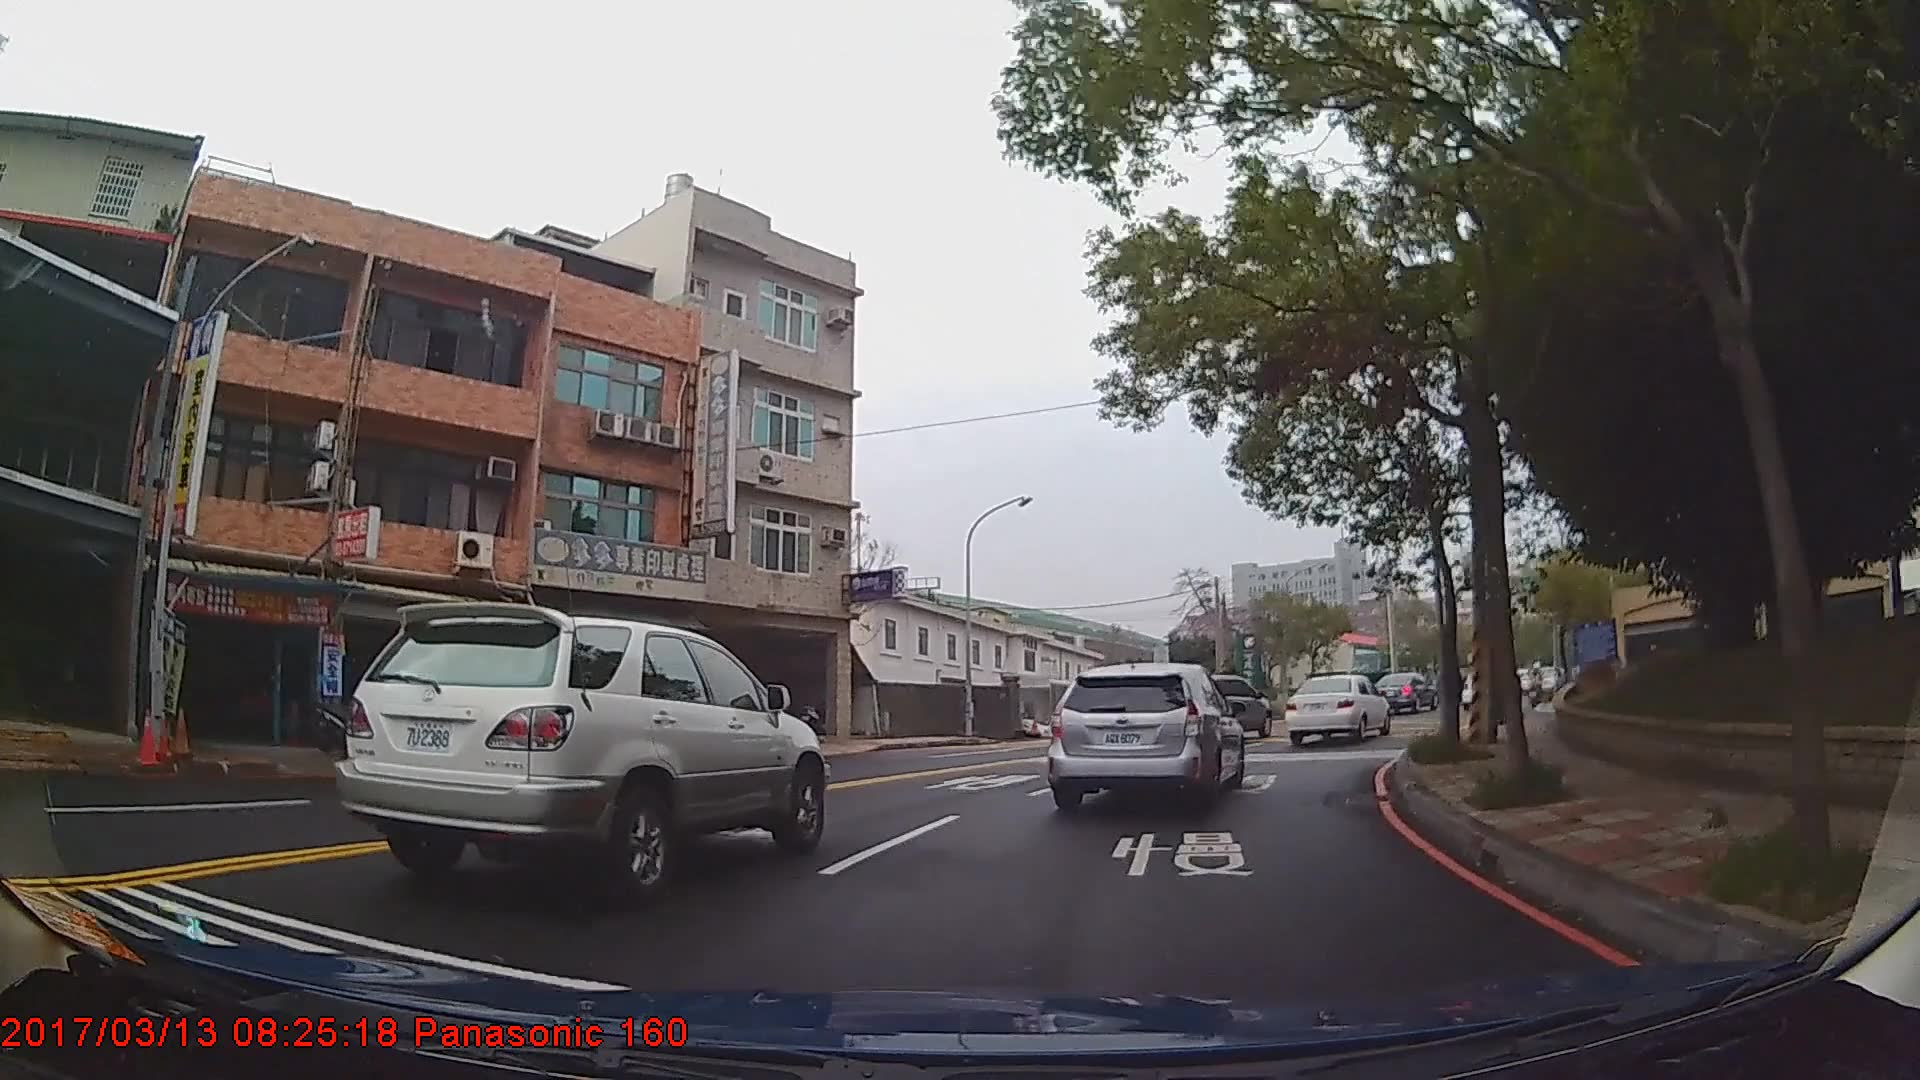vehicle: (332, 601, 825, 905), (1043, 659, 1244, 810), (1279, 671, 1389, 744), (1179, 671, 1270, 744), (1367, 667, 1433, 713)
